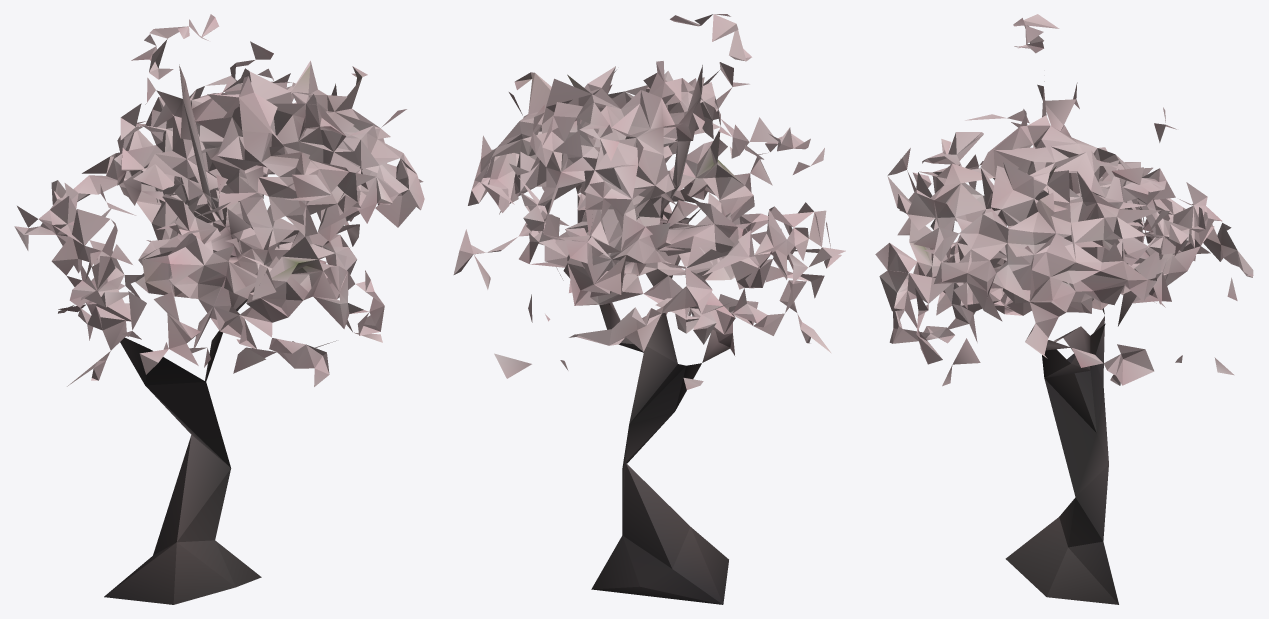
The model's file is lib_blossom.vc.glb.
3 renders of one model, left to right at view 1: azimuth 30°, elevation 25°; view 2: azimuth 150°, elevation 25°; view 3: azimuth 270°, elevation 25°, orthographic. The views are drawn at different scales.
Parts seen in each view (by area): view 1: lib_blossom; view 2: lib_blossom; view 3: lib_blossom.
Boxes of the visible parts, left/top/right/bottom form: lib_blossom: left=14, top=14, right=424, bottom=604; lib_blossom: left=453, top=14, right=845, bottom=604; lib_blossom: left=875, top=14, right=1253, bottom=604.
Size of the model in its own units: 1.19 by 1.97 by 1.24.
